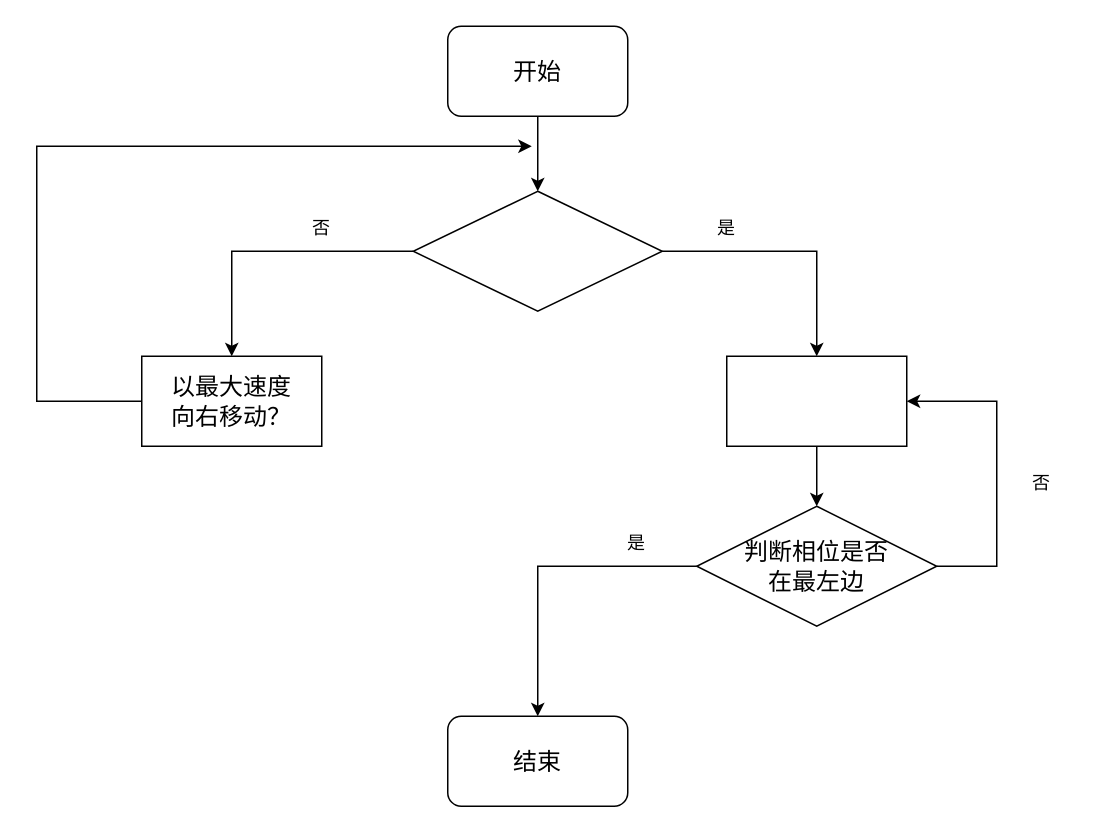
Image size: 1113x833. Some labels were removed from this diagram. Here are the shapes that lost their labels. From the top down, the centre of each, then its label:
At pixel 537 250: "判定相位是否 在最右边".
At pixel 816 400: "以最大速度 向左移动？".
